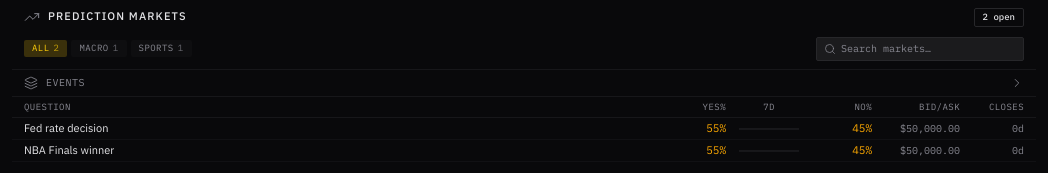
Test case: PredictionMarketsPage › sends the category param and renders only the server-filtered rows
Expected: the text "Fed rate decision" is shown, [24,121,108,136]
# Click the "macro" category pill (rendered from the categories endpoint)
Step 1. Click the button "macro1" → (99, 49), box [71,40,126,57]
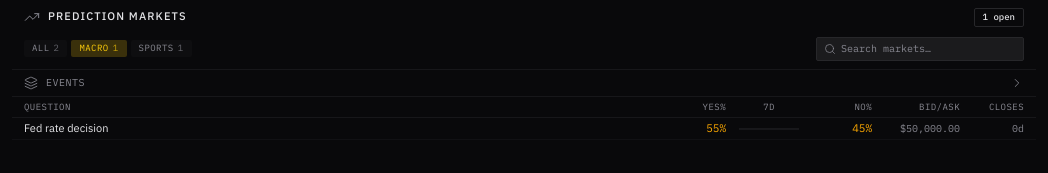
Expected: the text "Fed rate decision" is shown, [24,121,108,136]
Now the button "NBA Finals winner" is gone
